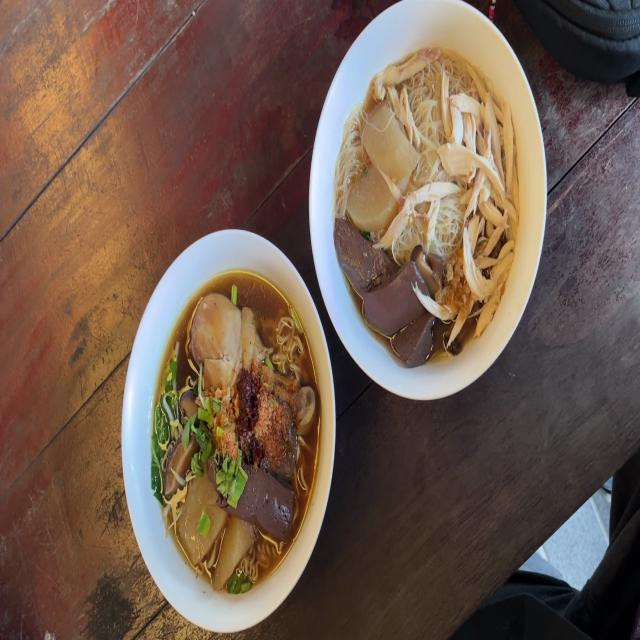noodle: (336, 216, 399, 292), (242, 464, 292, 540), (372, 268, 418, 342), (401, 314, 433, 356), (283, 414, 296, 483)
